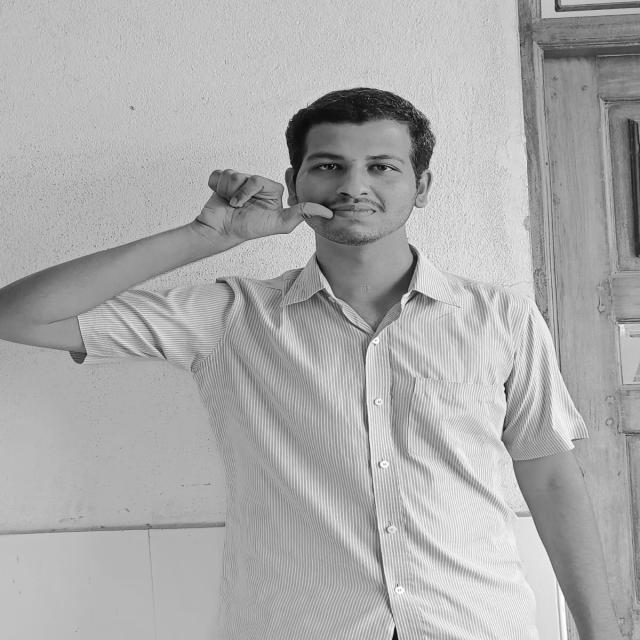Drink: (206, 170, 334, 250)
